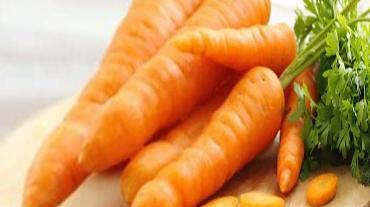carrot: (44, 11, 296, 197), (86, 55, 315, 193), (163, 21, 294, 86)
